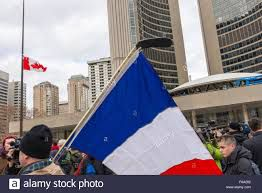French Flag: (70, 54, 224, 175)
